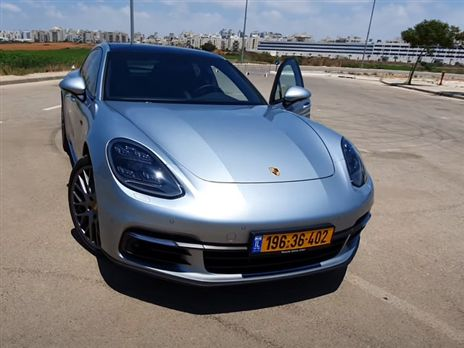licence: (248, 222, 336, 257)
